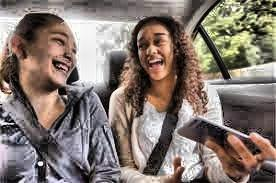seatbelt: (2, 95, 87, 183), (139, 67, 192, 176)
